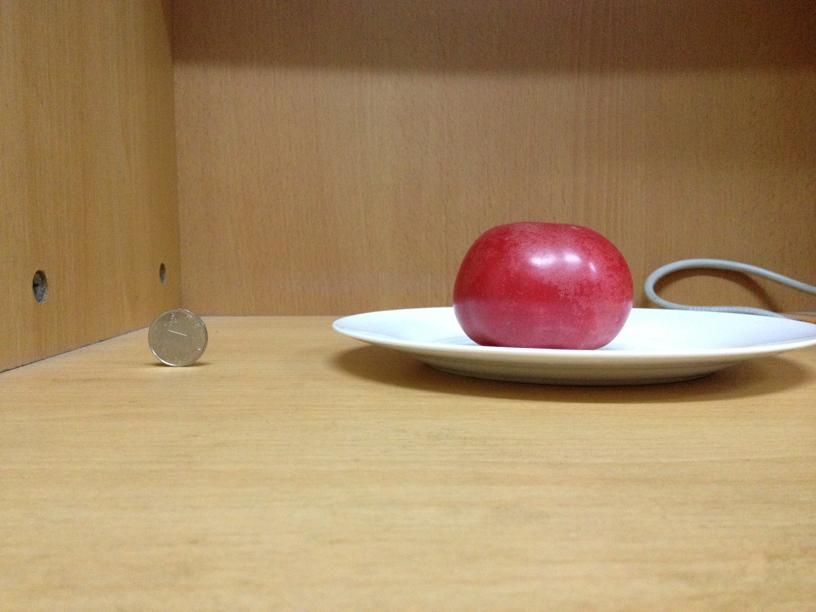coin: (151, 309, 208, 365)
tomato: (446, 222, 636, 348)
